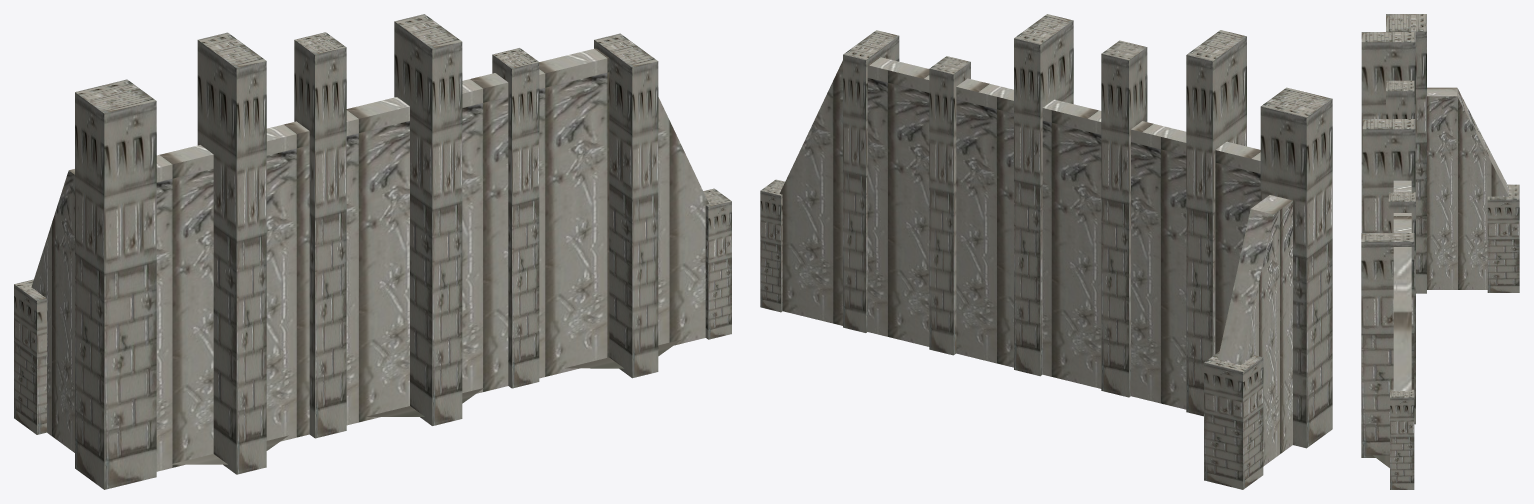
The model's file is ruins3-textured.glb.
3 renders of one model, left to right at view 1: azimuth 30°, elevation 25°; view 2: azimuth 150°, elevation 25°; view 3: azimuth 270°, elevation 25°, orthographic. The views are drawn at different scales.
Visible parts, largest first — view 1: Ruin_Large_Columns, Ruin_Large_Face; view 2: Ruin_Large_Face, Ruin_Large_Columns; view 3: Ruin_Large_Columns, Ruin_Large_Face.
Boxes of the visible parts, x1,y1,x2,y2 form: Ruin_Large_Columns: [14, 14, 731, 489]; Ruin_Large_Face: [31, 48, 708, 471]; Ruin_Large_Face: [779, 57, 1292, 466]; Ruin_Large_Columns: [760, 14, 1332, 489]; Ruin_Large_Columns: [1361, 14, 1519, 489]; Ruin_Large_Face: [1373, 87, 1508, 467].
Size of the model in its own units: 5.56 by 3.42 by 1.73.
Materials: 2 (2 with a texture image).
